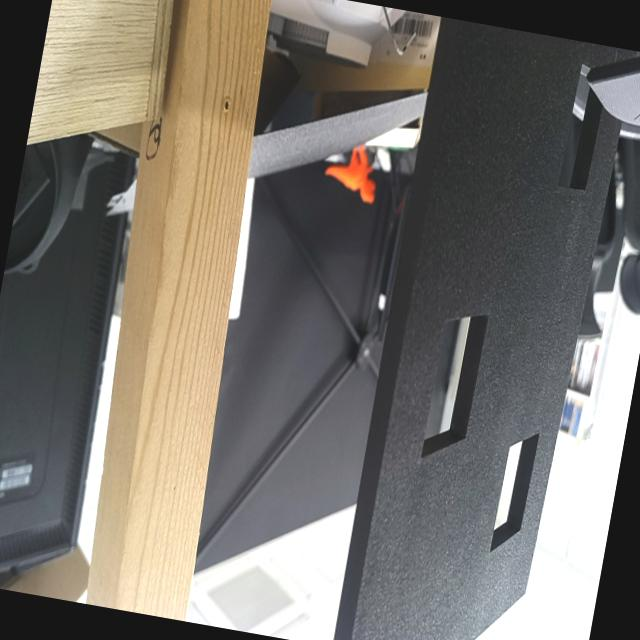Obstacle: (421, 317, 487, 458), (490, 434, 539, 550), (558, 59, 601, 187)
Wall: (351, 21, 635, 640)
